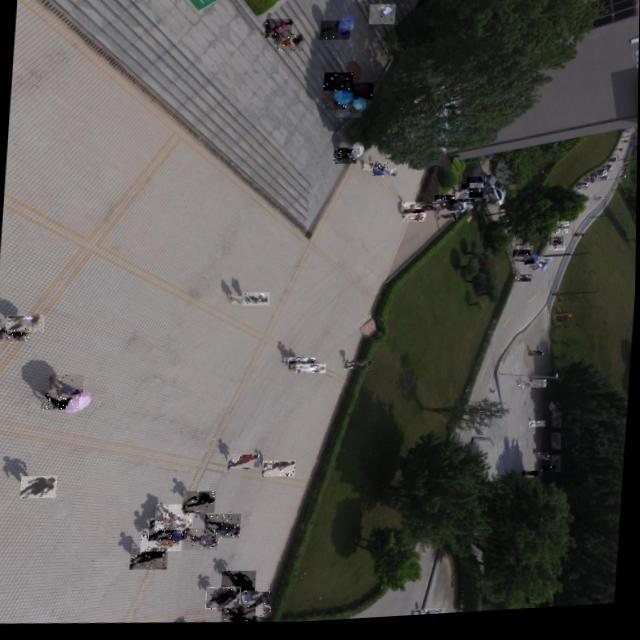Person: (155, 505, 195, 534), (141, 529, 183, 556), (205, 515, 242, 543), (150, 520, 190, 545), (131, 548, 169, 574), (20, 475, 57, 501), (183, 529, 220, 555), (206, 588, 242, 614), (243, 592, 274, 622), (49, 374, 84, 400), (222, 572, 257, 597), (183, 492, 216, 518), (5, 314, 45, 335), (41, 392, 80, 413), (207, 589, 241, 613), (222, 605, 257, 627), (318, 23, 350, 46), (262, 462, 296, 482), (341, 85, 373, 106), (226, 455, 261, 474), (264, 21, 292, 43), (0, 322, 29, 343), (323, 76, 353, 96), (368, 8, 395, 30), (274, 36, 303, 56), (289, 363, 320, 377), (242, 295, 270, 310), (335, 108, 362, 123), (372, 168, 398, 183), (333, 153, 357, 169), (344, 363, 372, 376), (321, 101, 347, 115), (228, 297, 258, 309), (296, 367, 326, 379), (285, 360, 316, 371), (362, 166, 388, 178), (417, 612, 448, 620), (401, 207, 423, 218), (421, 208, 444, 218), (402, 214, 424, 224), (402, 218, 424, 228), (457, 207, 476, 218), (452, 192, 472, 202), (454, 197, 474, 207), (436, 208, 455, 218), (337, 152, 360, 160), (467, 182, 485, 192), (437, 219, 457, 227), (434, 200, 454, 208), (518, 388, 534, 398), (436, 205, 455, 213), (515, 256, 531, 265), (511, 255, 527, 264), (448, 209, 464, 217), (461, 189, 477, 197), (530, 427, 546, 435), (534, 459, 550, 467), (456, 204, 474, 211), (516, 252, 533, 259), (468, 197, 482, 205), (516, 246, 532, 253), (530, 389, 546, 396), (469, 188, 484, 195), (549, 249, 564, 256), (541, 472, 556, 479), (512, 262, 526, 269), (527, 270, 541, 277), (549, 246, 563, 253), (515, 283, 531, 289), (522, 477, 538, 483), (524, 260, 537, 267), (524, 265, 537, 272), (528, 357, 543, 363), (522, 388, 537, 394), (448, 205, 462, 211), (469, 194, 481, 201), (550, 243, 564, 249), (532, 386, 546, 392), (516, 250, 532, 255), (549, 253, 565, 258), (556, 228, 569, 234), (519, 280, 534, 285), (538, 264, 553, 269), (553, 233, 564, 239), (551, 237, 564, 242), (556, 236, 568, 241), (393, 0, 420, 2), (576, 190, 586, 195), (577, 192, 587, 197), (557, 232, 569, 236), (575, 240, 584, 244), (596, 204, 604, 207)
